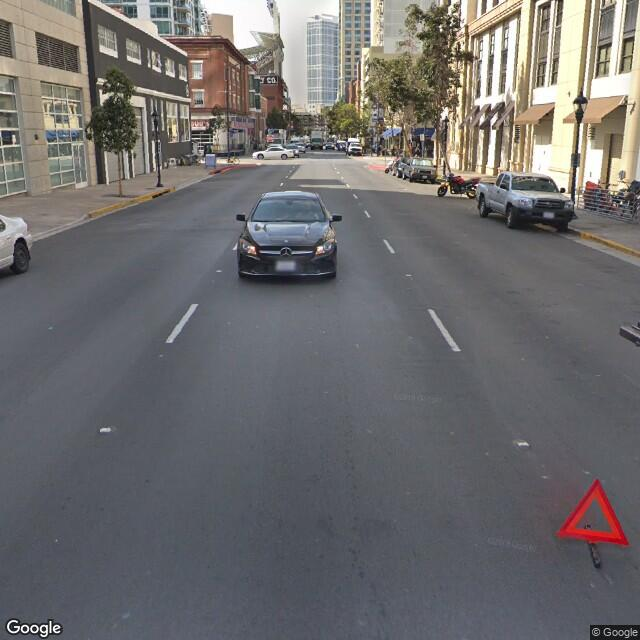road line: (165, 279, 206, 364), (423, 296, 464, 359)
window: (532, 9, 562, 91), (597, 44, 615, 76)
